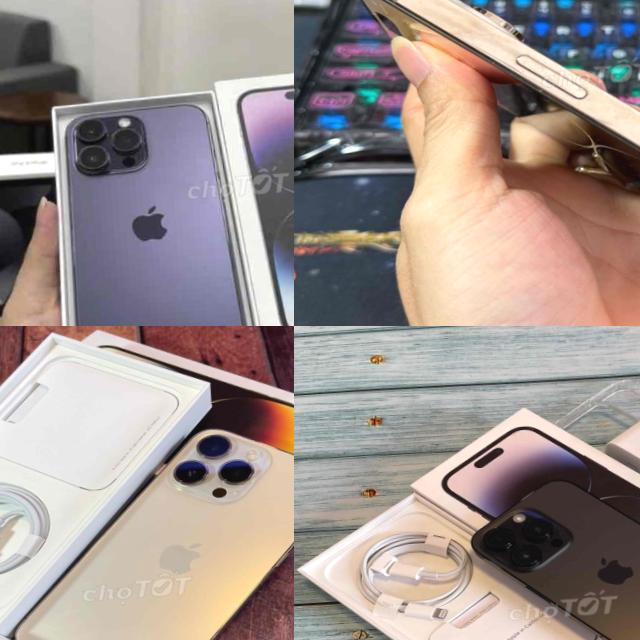gen_14: (332, 0, 640, 326), (3, 403, 294, 640), (50, 94, 254, 326), (463, 462, 640, 640)
